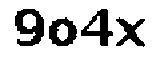4: (80, 3, 114, 49)
9: (8, 2, 45, 52)
o: (46, 16, 78, 48)
x: (113, 14, 148, 50)
